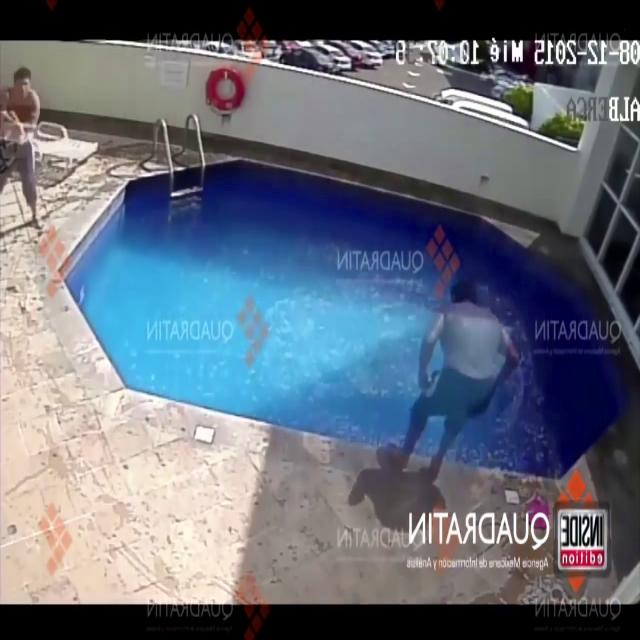adult: (386, 280, 518, 478), (0, 68, 41, 234)
